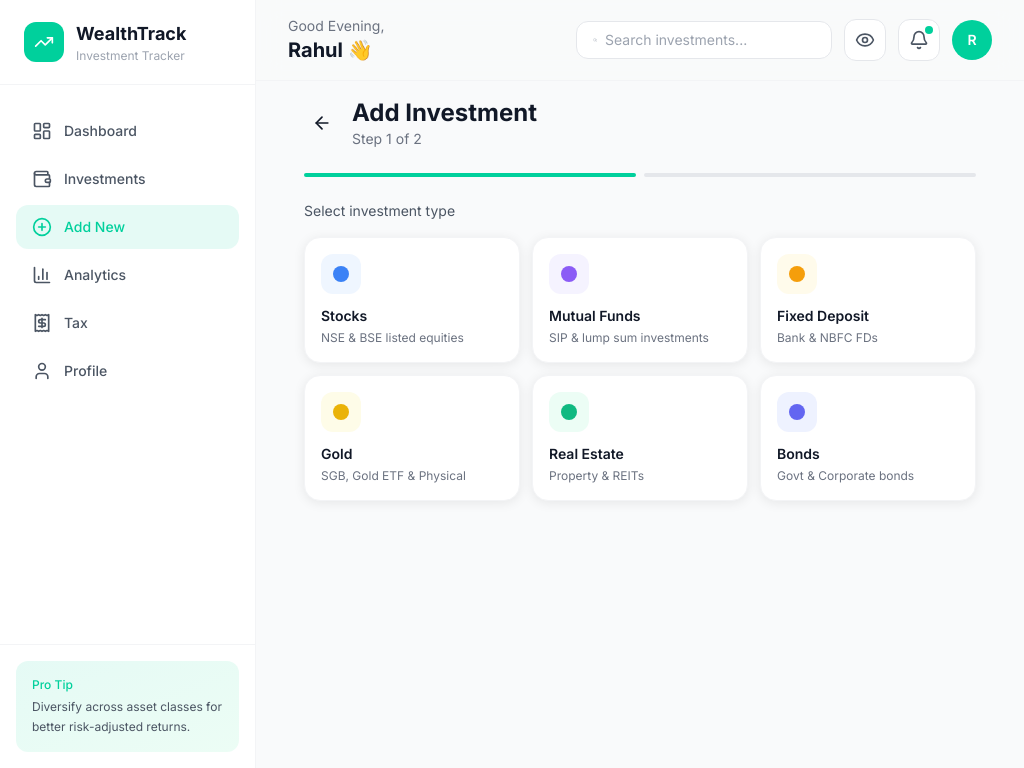
Test: investments › add stock: sends only the fields the backend needs - no current value
Step 1. Click the button "Stocks NSE & BSE listed equities" → (412, 300), box [304,237,520,363]
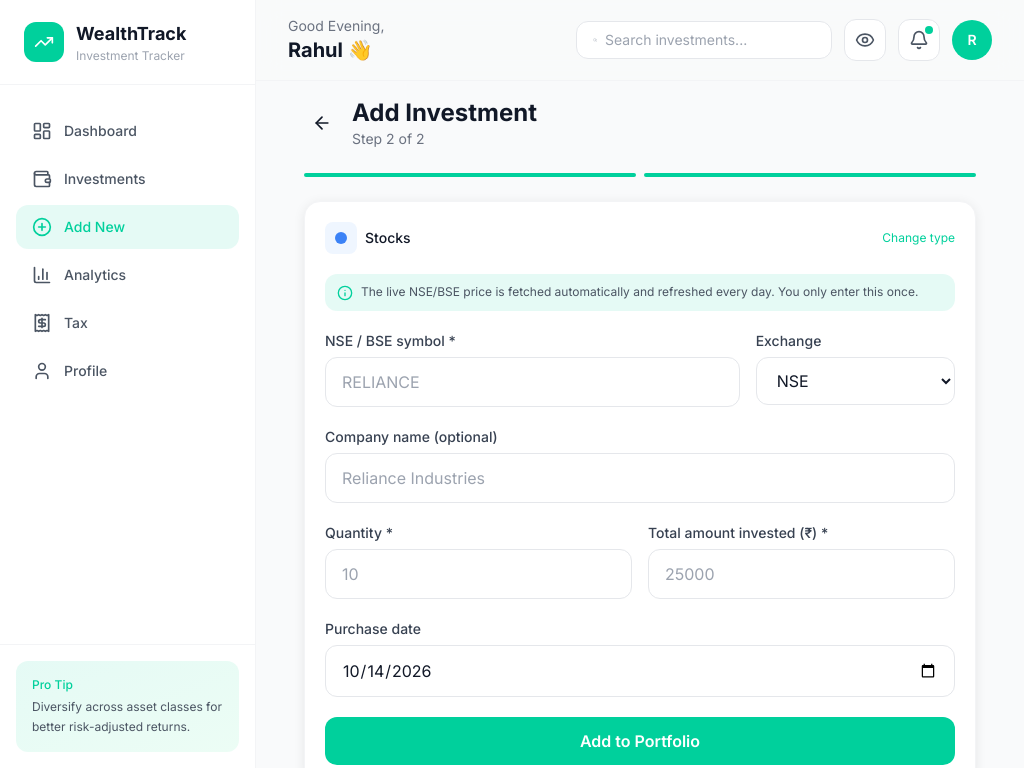
Step 2. Type "infy" into the field with placeholder "RELIANCE" → (532, 382), box [325,357,740,407]
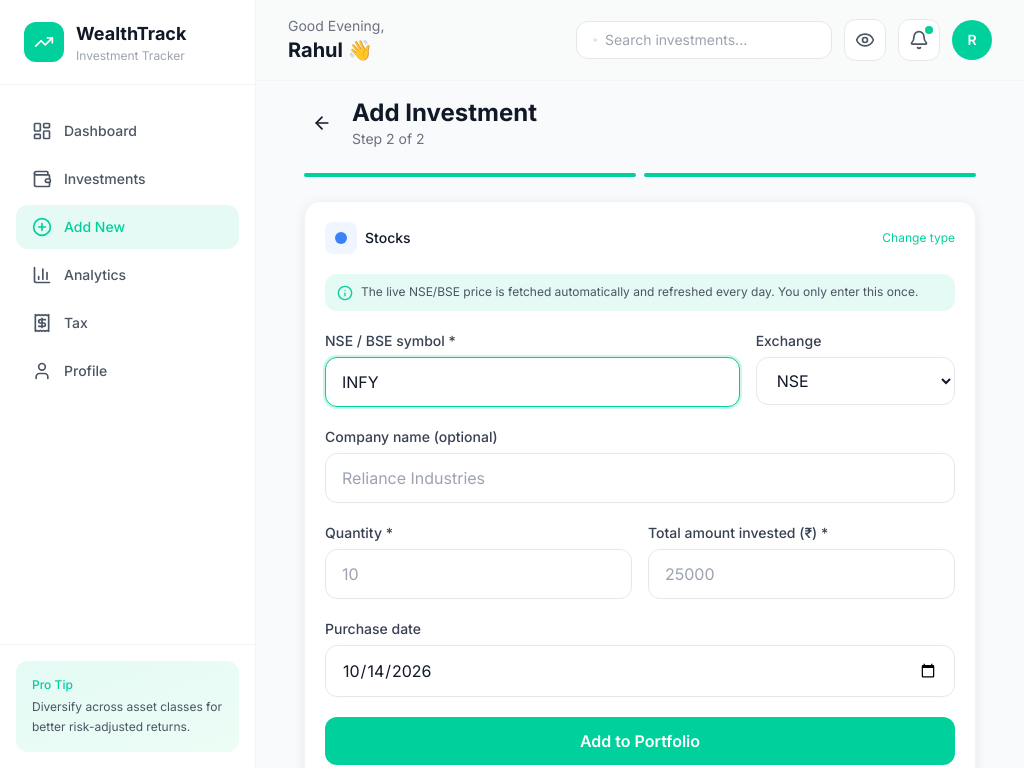
Step 3. Type "15" into the number field with placeholder "10" → (478, 574), box [325,549,632,599]
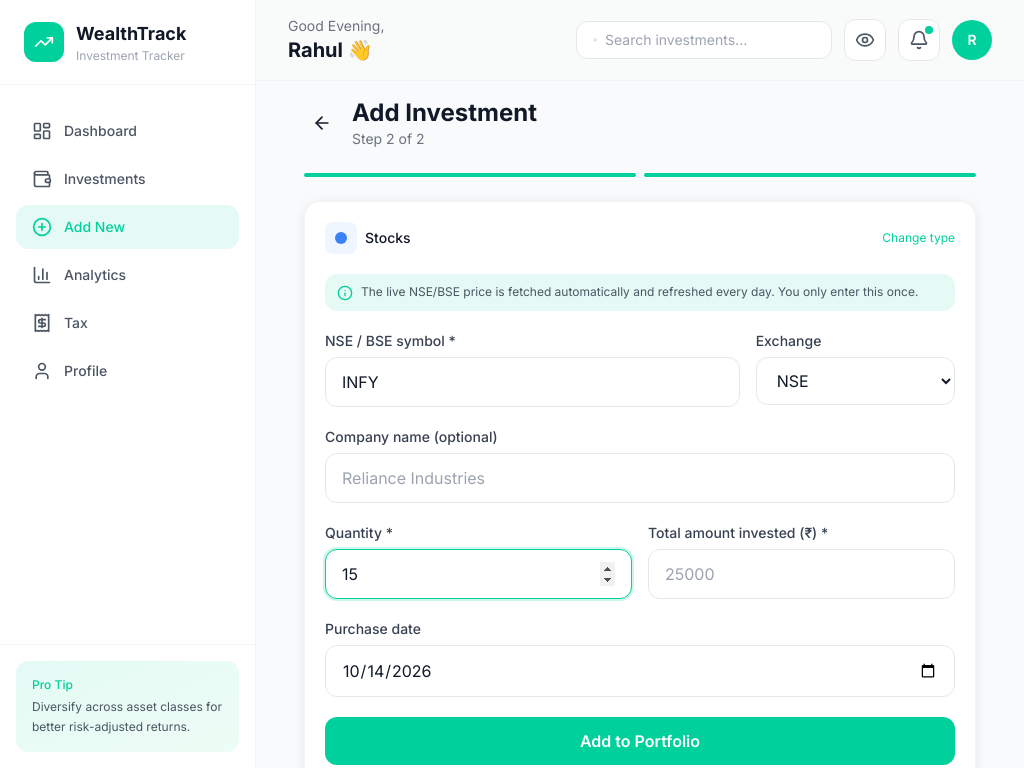
Step 4. Type "22500" into the number field with placeholder "25000" → (802, 574), box [648,549,955,599]
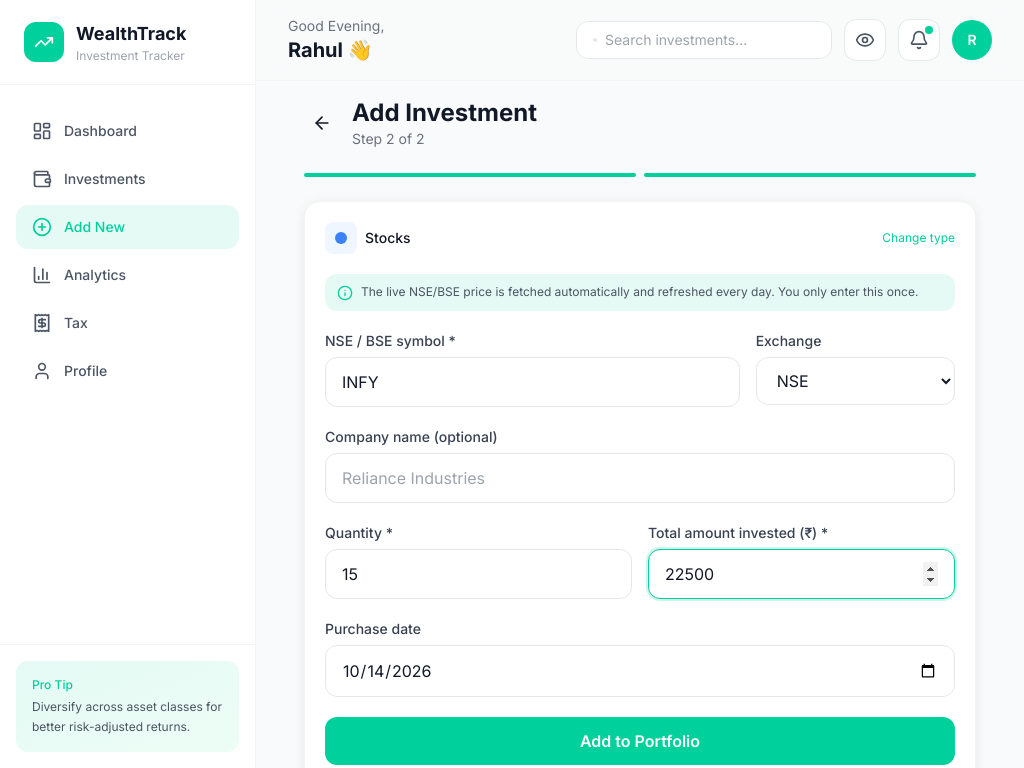
Step 5. Click the button "Add to Portfolio" → (640, 741), box [325,717,955,765]
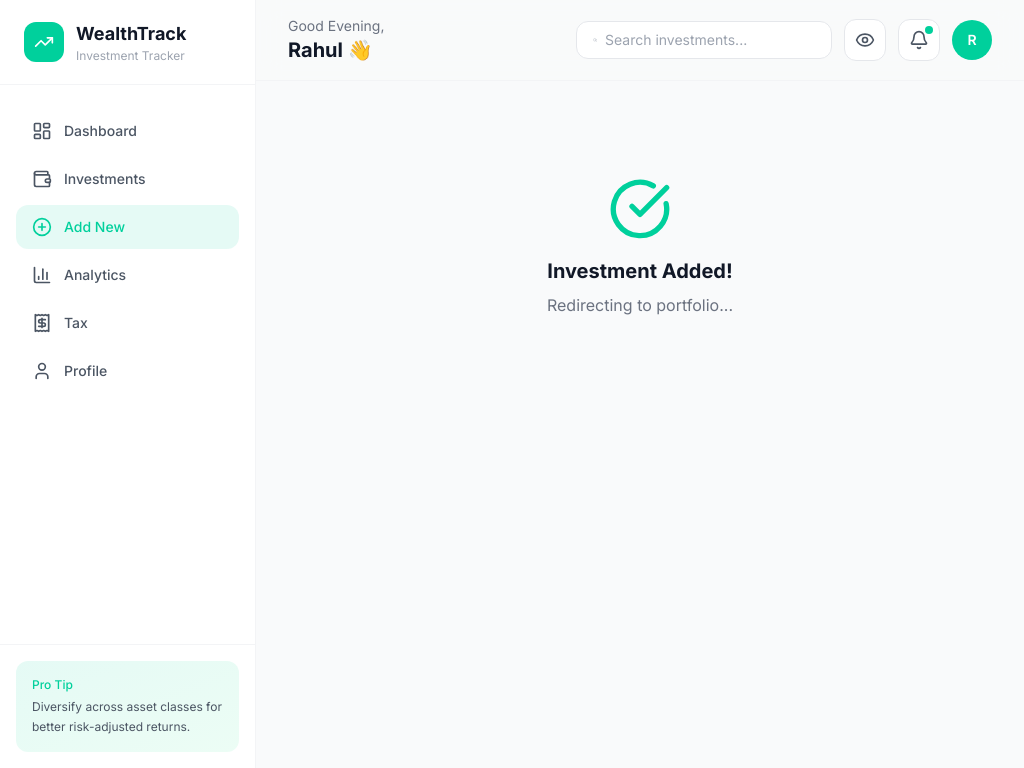
Expected: the heading "Investment Added!" is shown, [547,257,733,285]
